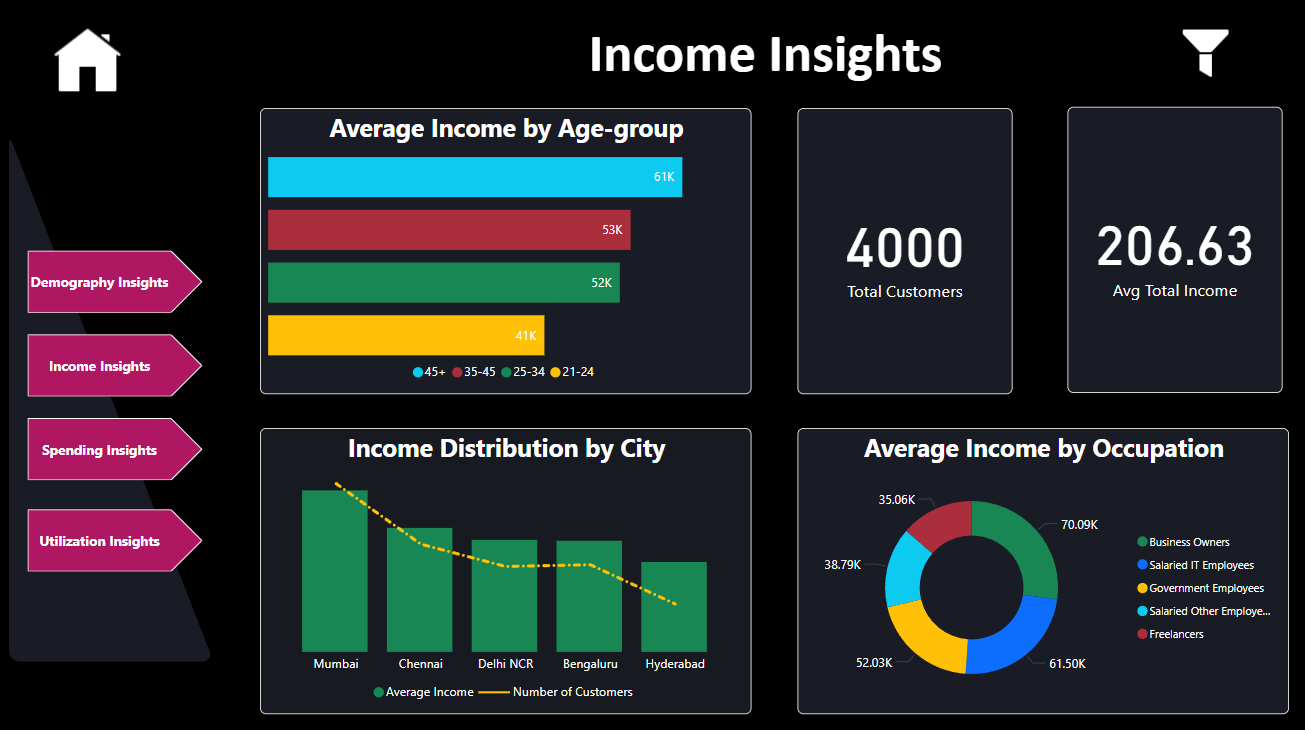

The dashboard page shown, as its layout file describes it:
{"tool":"powerbi","page":{"name":"Income Insights","canvas":[1280,720],"ordinal":2},"visuals":[{"type":"card","fields":{"Values":["dim_customers.Avg Total Income"]},"box":[1044.3,106.4,210.3,280],"z":0},{"type":"shape","box":[8.6,132.1,200.5,517.3],"z":0,"group":"g1"},{"type":"card","fields":{"Values":["Count(fact_spends.customer_id)"]},"box":[780.2,107.6,210.3,280],"z":1000},{"type":"shape","box":[26.9,500.2,171.2,61.1],"z":1000,"group":"g1"},{"type":"shape","box":[26.9,410.9,171.2,61.1],"z":2000,"group":"g1"},{"type":"donutChart","title":"Average Income by Occupation","fields":{"Y":["Avg(dim_customers.avg_income)"],"Category":["dim_customers.occupation"]},"box":[780.2,420.7,480.6,280],"z":2000},{"type":"shape","box":[560.1,14.7,377.9,77],"z":3000},{"type":"shape","box":[26.9,329,171.2,61.1],"z":3000,"group":"g1"},{"type":"image","box":[1149.5,23.2,59.9,61.1],"z":4000},{"type":"shape","box":[26.9,247,171.2,61.1],"z":4000,"group":"g1"},{"type":"group","id":"g1","title":"Nav Panel","box":[8.6,132.1,200.5,517.3],"z":6000},{"type":"barChart","title":"Average Income by Age-group","fields":{"Category":["dim_customers.age_group"],"Y":["Avg(dim_customers.avg_income)"],"Series":["dim_customers.age_group"]},"box":[254.3,107.6,480.6,280],"z":7000},{"type":"lineStackedColumnComboChart","title":"Income Distribution by City","fields":{"Category":["dim_customers.city"],"Y":["Sum(dim_customers.avg_income)"],"Y2":["Count(fact_spends.customer_id)"]},"box":[254.3,420.7,480.6,280],"z":8000},{"type":"image","box":[47.7,23.2,75.8,77],"z":9000}]}

Visuals, with their boxes in screenshot pixels (x1, y1, x2, y2), scaled from the page's 1280x720 canvas onto the 1305x730 screenshot:
card - dim_customers.Avg Total Income: l=1065, t=108, r=1279, b=392
shape: l=9, t=134, r=213, b=658
card - Count(fact_spends.customer_id): l=795, t=109, r=1010, b=393
shape: l=27, t=507, r=202, b=569
shape: l=27, t=417, r=202, b=479
"Average Income by Occupation" donutChart: l=795, t=427, r=1285, b=710
shape: l=571, t=15, r=956, b=93
shape: l=27, t=334, r=202, b=396
image: l=1172, t=24, r=1233, b=85
shape: l=27, t=250, r=202, b=312
"Nav Panel" group: l=9, t=134, r=213, b=658
"Average Income by Age-group" barChart: l=259, t=109, r=749, b=393
"Income Distribution by City" lineStackedColumnComboChart: l=259, t=427, r=749, b=710
image: l=49, t=24, r=126, b=102
